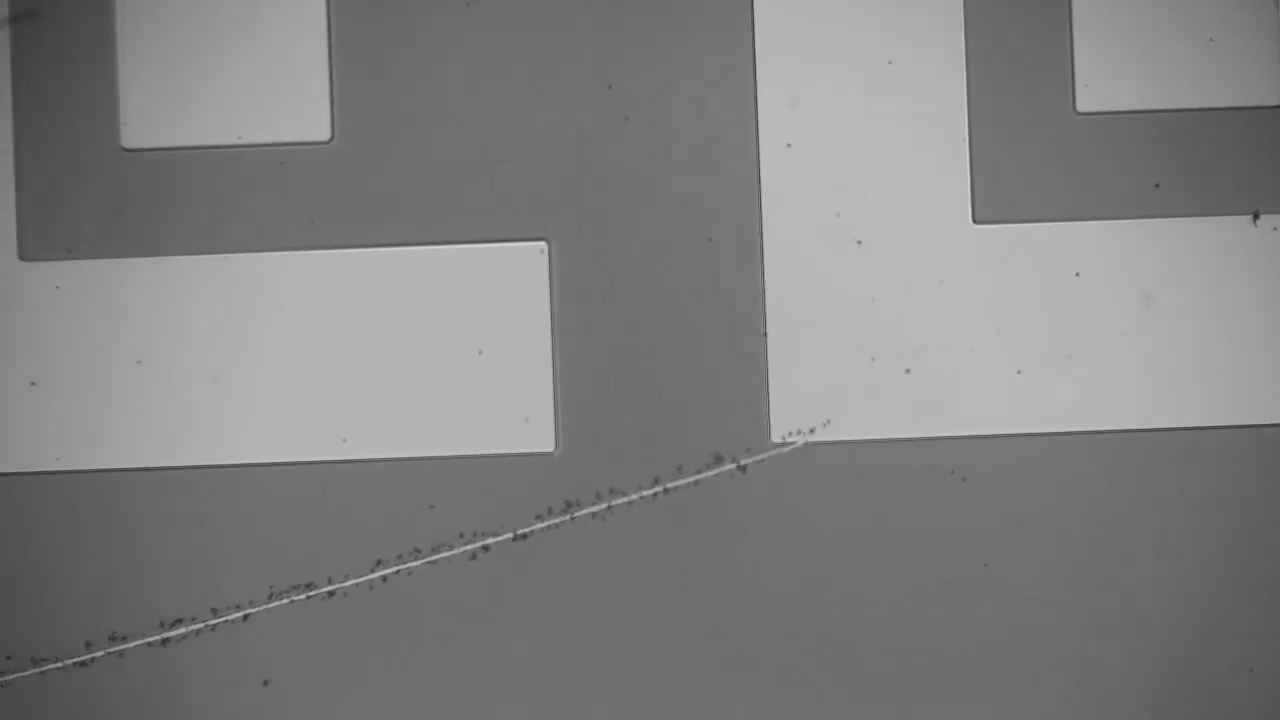scratch: (15, 448, 802, 678)
